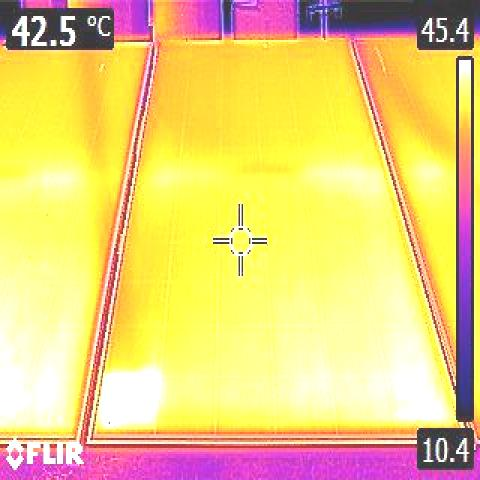fault: (103, 373, 156, 429)
